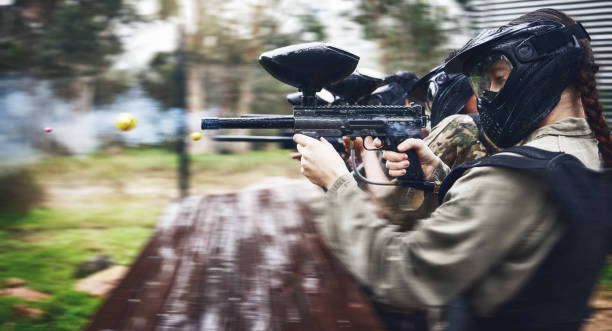gun: (199, 109, 429, 189)
